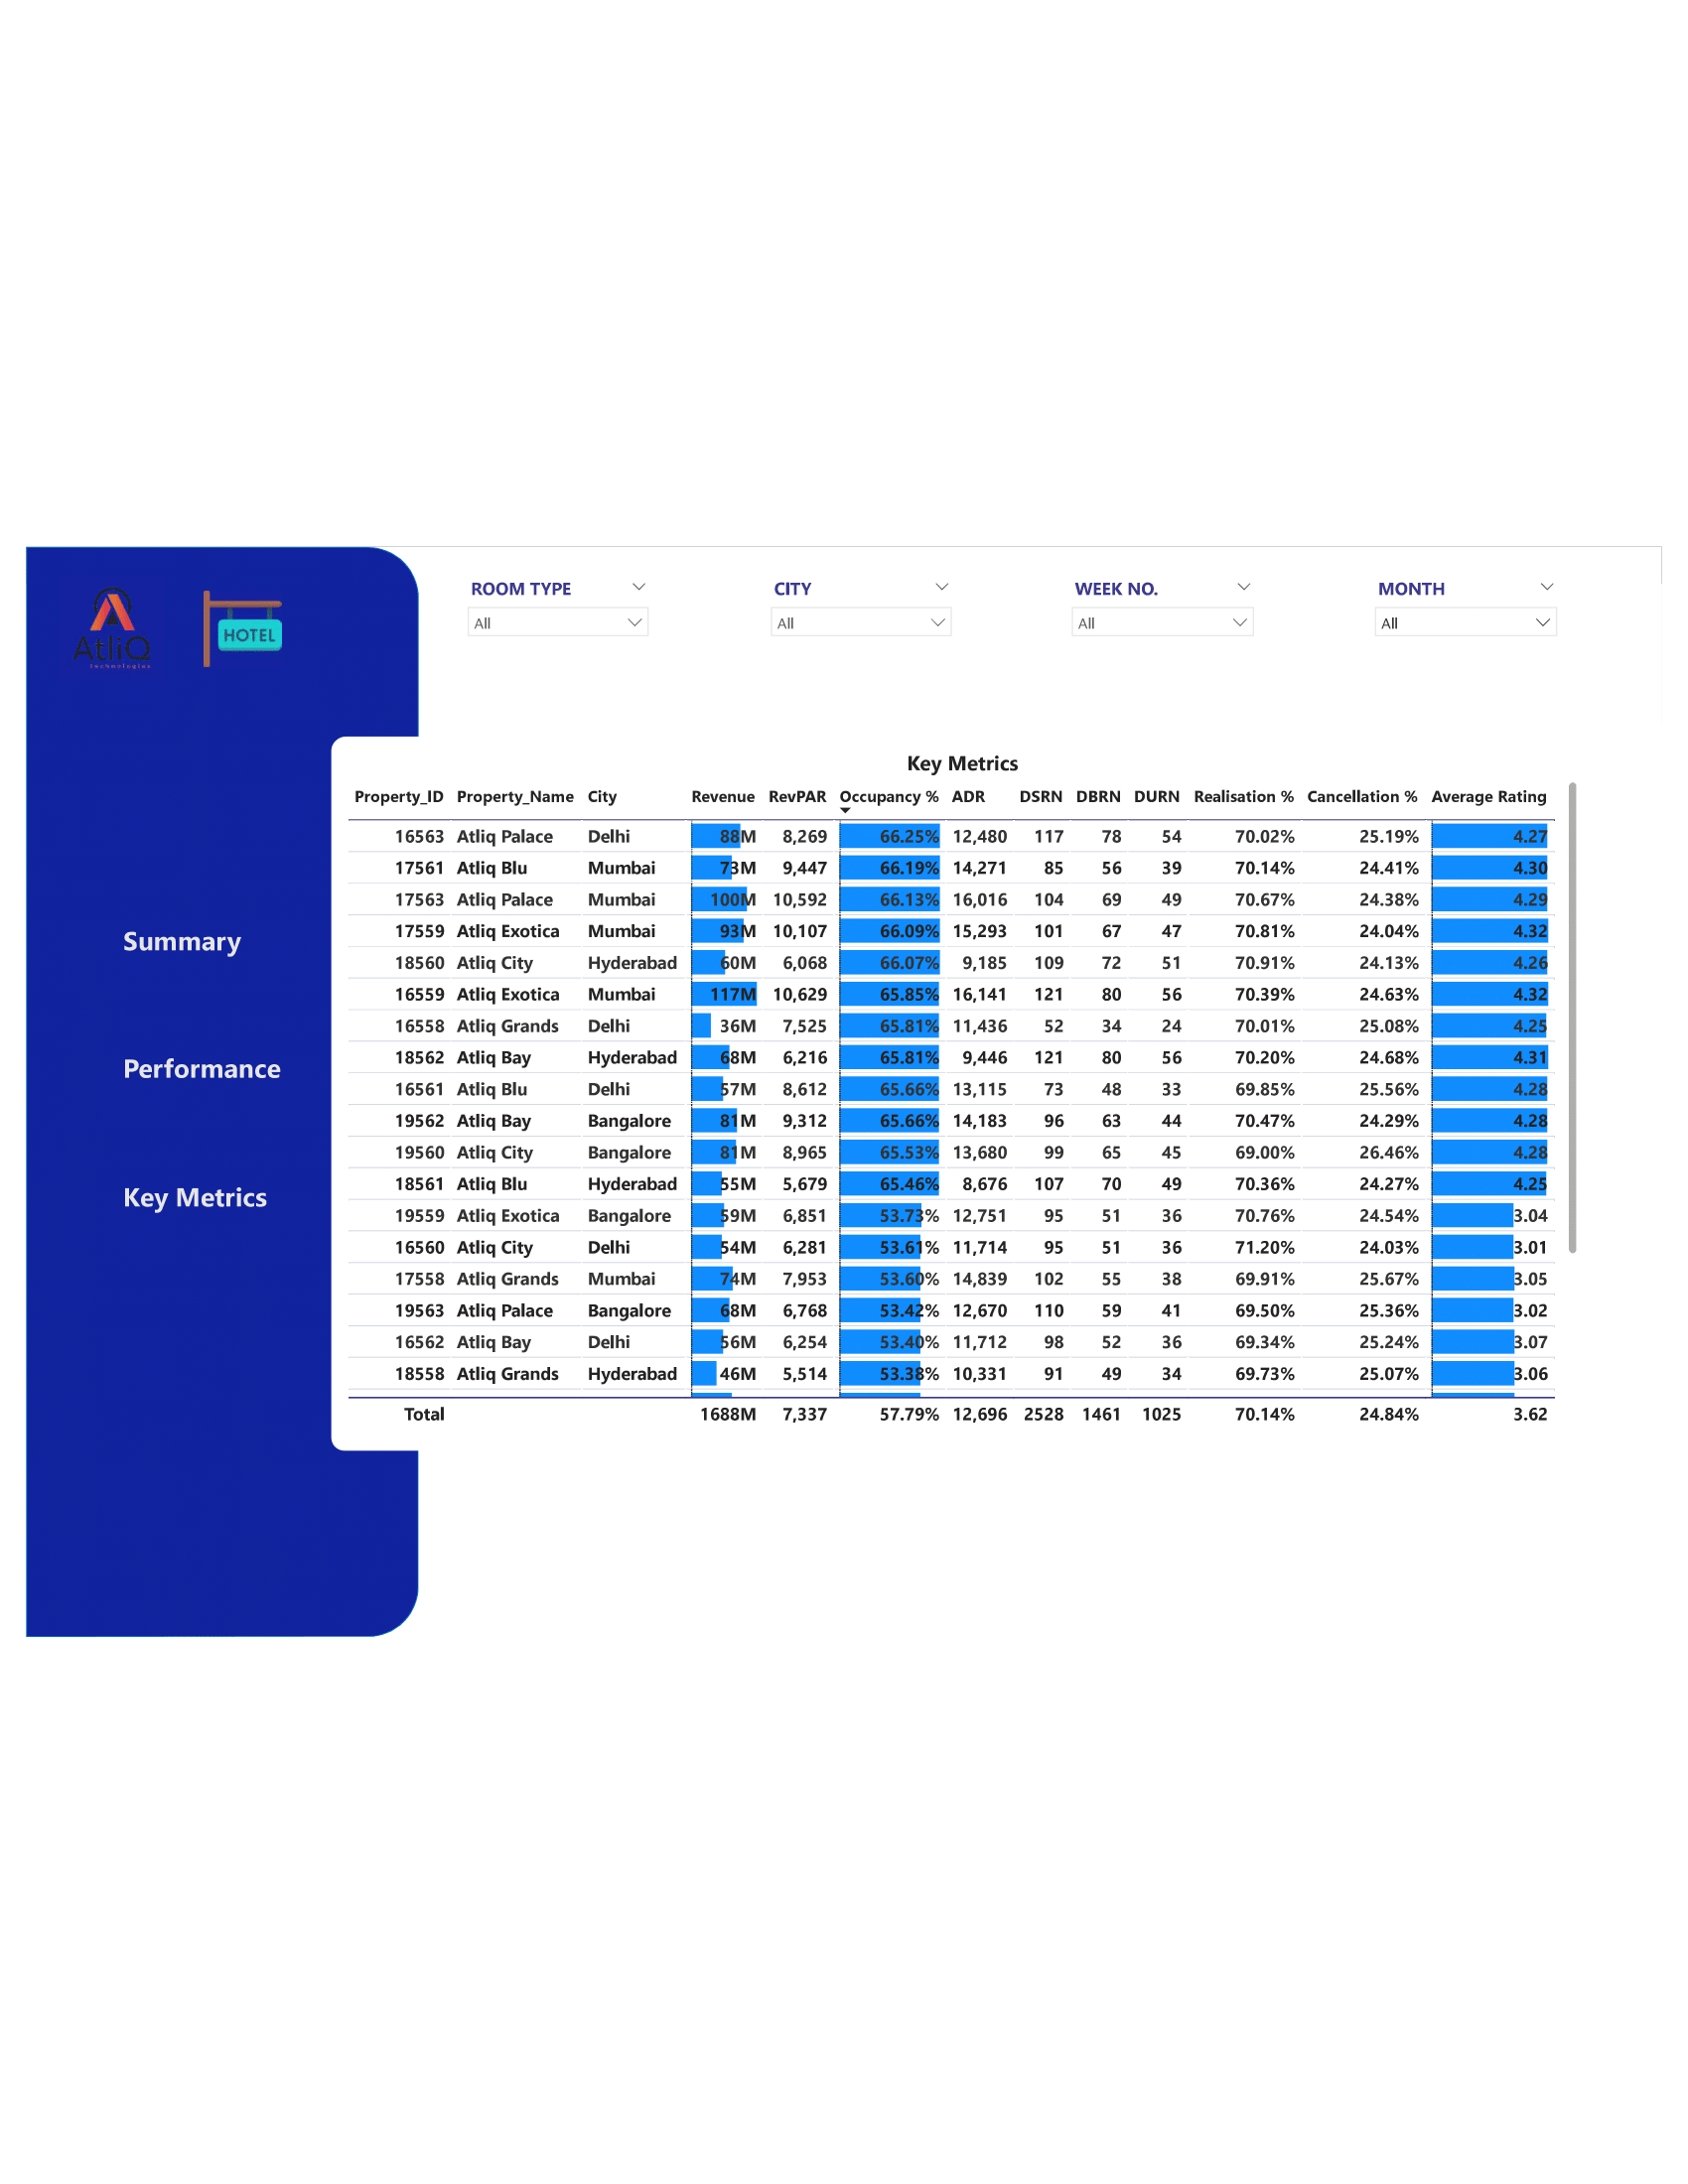

Layout of this report page (visuals, bound fields, positions):
{"tool":"powerbi","page":{"name":"Key Metrics","canvas":[1500,1000],"ordinal":2},"visuals":[{"type":"shape","box":[0,0,360.1,1000.3],"z":0},{"type":"shape","box":[280.2,174.9,312.5,653.9],"z":1000},{"type":"shape","box":[281,174.1,1155.2,653.4],"z":2000},{"type":"tableEx","title":"Key Metrics","fields":{"Values":["dim_hotels.property_id","dim_hotels.property_name","dim_hotels.city","Key_Measures.Revenue","Key_Measures.RevPAR","Key_Measures.Occupancy %","Key_Measures.ADR","Key_Measures.DSRN","Key_Measures.DBRN","Key_Measures.DURN","Key_Measures.Realisation %","Key_Measures.Cancellation %"]},"box":[290.4,185.1,1137.9,628.4],"z":3000},{"type":"actionButton","title":"Summary","box":[85.3,330.5,154.2,57.6],"z":4000},{"type":"actionButton","title":"Summary","box":[85.3,448.3,154.2,57.6],"z":5000},{"type":"actionButton","title":"Summary","box":[85.3,566.1,154.2,57.6],"z":6000},{"type":"image","box":[25.8,22.5,106.2,104.6],"z":7000},{"type":"image","box":[157.6,35.6,81.4,79.7],"z":8000},{"type":"slicer","fields":{"Values":["dim_rooms.room_class"]},"box":[394.9,22,186.4,76.3],"z":9000},{"type":"slicer","fields":{"Values":["dim_hotels.city"]},"box":[672.9,22,186.4,76.3],"z":10000},{"type":"slicer","fields":{"Values":["dim_date.week no"]},"box":[949.2,22,186.4,76.3],"z":11000},{"type":"slicer","fields":{"Values":["dim_date.mmm yy"]},"box":[1227.1,22,186.4,76.3],"z":12000},{"type":"shape","box":[278.5,174.9,1122.6,653.9],"z":13000}]}

Visuals, with their boxes on the page's 1500x1000 design canvas (x1, y1, x2, y2). These are canvas units, not pixel positions in the 1688x2184 screenshot, which may show the page scaled, cropped or inside an application window:
shape: <bbox>0, 0, 360, 1000</bbox>
shape: <bbox>280, 175, 593, 829</bbox>
shape: <bbox>281, 174, 1436, 828</bbox>
"Key Metrics" tableEx: <bbox>290, 185, 1428, 814</bbox>
"Summary" actionButton: <bbox>85, 330, 240, 388</bbox>
"Summary" actionButton: <bbox>85, 448, 240, 506</bbox>
"Summary" actionButton: <bbox>85, 566, 240, 624</bbox>
image: <bbox>26, 22, 132, 127</bbox>
image: <bbox>158, 36, 239, 115</bbox>
slicer - dim_rooms.room_class: <bbox>395, 22, 581, 98</bbox>
slicer - dim_hotels.city: <bbox>673, 22, 859, 98</bbox>
slicer - dim_date.week no: <bbox>949, 22, 1136, 98</bbox>
slicer - dim_date.mmm yy: <bbox>1227, 22, 1414, 98</bbox>
shape: <bbox>278, 175, 1401, 829</bbox>
